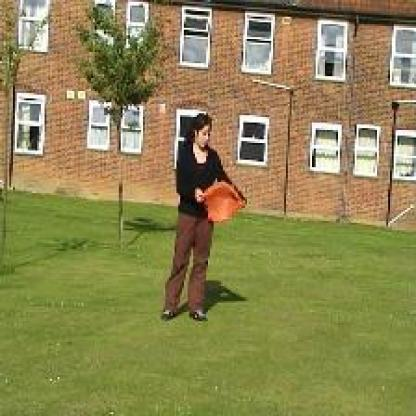other: (198, 180, 250, 226)
